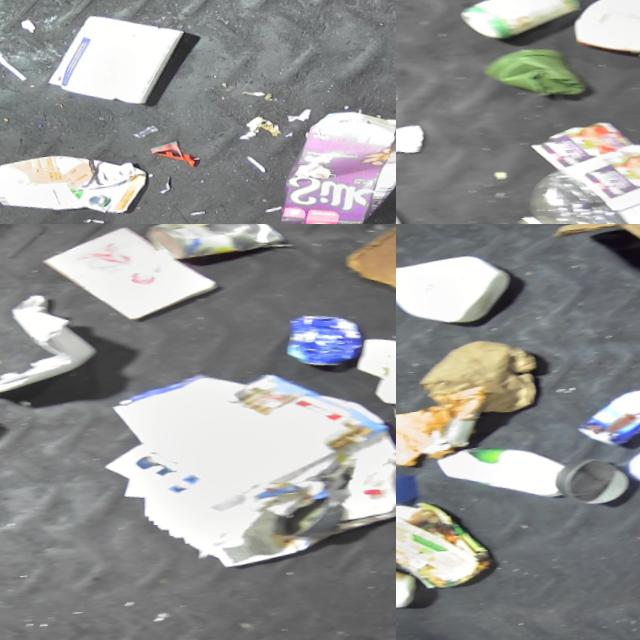can: (280, 300, 368, 370), (138, 224, 288, 265), (552, 448, 635, 509), (268, 485, 348, 541)
milk_jug: (433, 430, 572, 512)
non_white_jug: (266, 95, 396, 224), (0, 139, 151, 224)
plastic_bottle: (504, 120, 640, 224)
